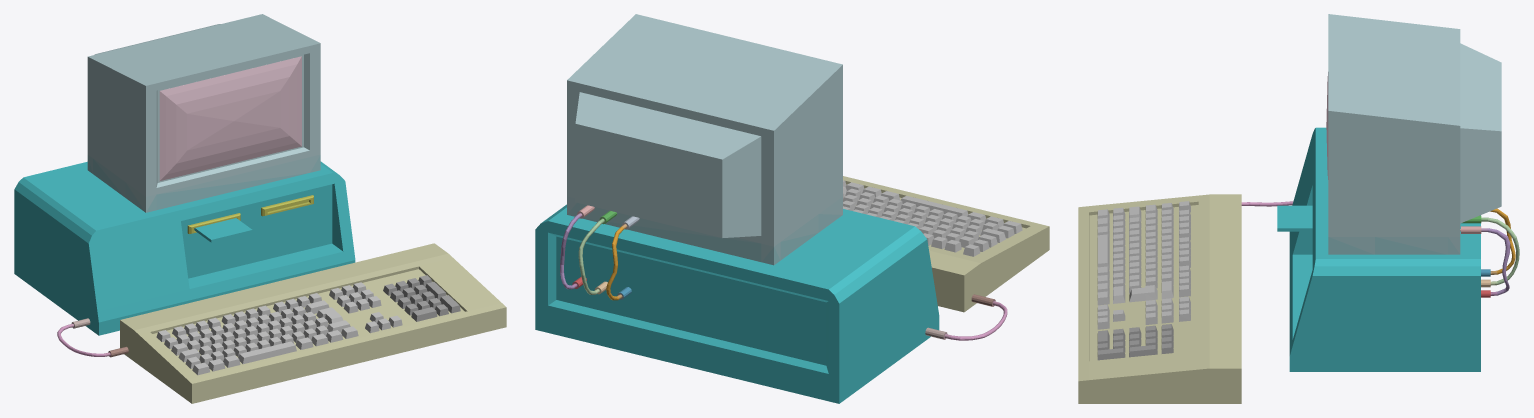
3 views of the same model, side by side, from view 1: azimuth 30°, elevation 25°; view 2: azimuth 150°, elevation 25°; view 3: azimuth 270°, elevation 25° (orthographic). The views are drawn at different scales.
Parts seen in each view (by area): view 1: world; view 2: world; view 3: world.
Part boxes in pixels (x1,y1,x2,y2): world: (14, 14, 506, 403); world: (535, 14, 1049, 403); world: (1078, 14, 1519, 403).
Bounding box in the file's own units: 1.8 × 1.08 × 1.71.
